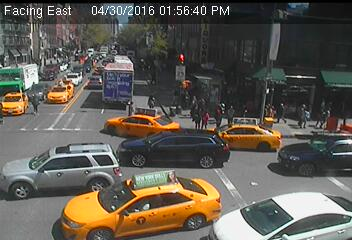neg: (238, 170, 265, 205), (83, 144, 104, 172), (225, 41, 246, 69), (57, 35, 77, 61), (81, 72, 101, 98), (200, 169, 219, 195), (157, 146, 175, 169), (299, 169, 316, 192), (302, 56, 319, 78), (132, 29, 148, 49)
pos: (316, 100, 336, 127), (295, 101, 313, 126), (29, 91, 47, 115), (209, 98, 227, 122), (226, 104, 243, 126), (276, 102, 293, 124), (187, 91, 203, 112), (143, 90, 158, 110), (124, 98, 138, 117), (194, 111, 208, 129), (203, 109, 216, 127)
